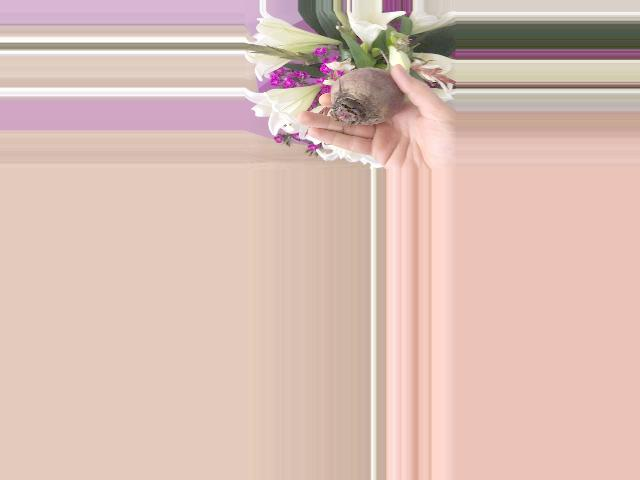beet: (330, 49, 404, 125)
